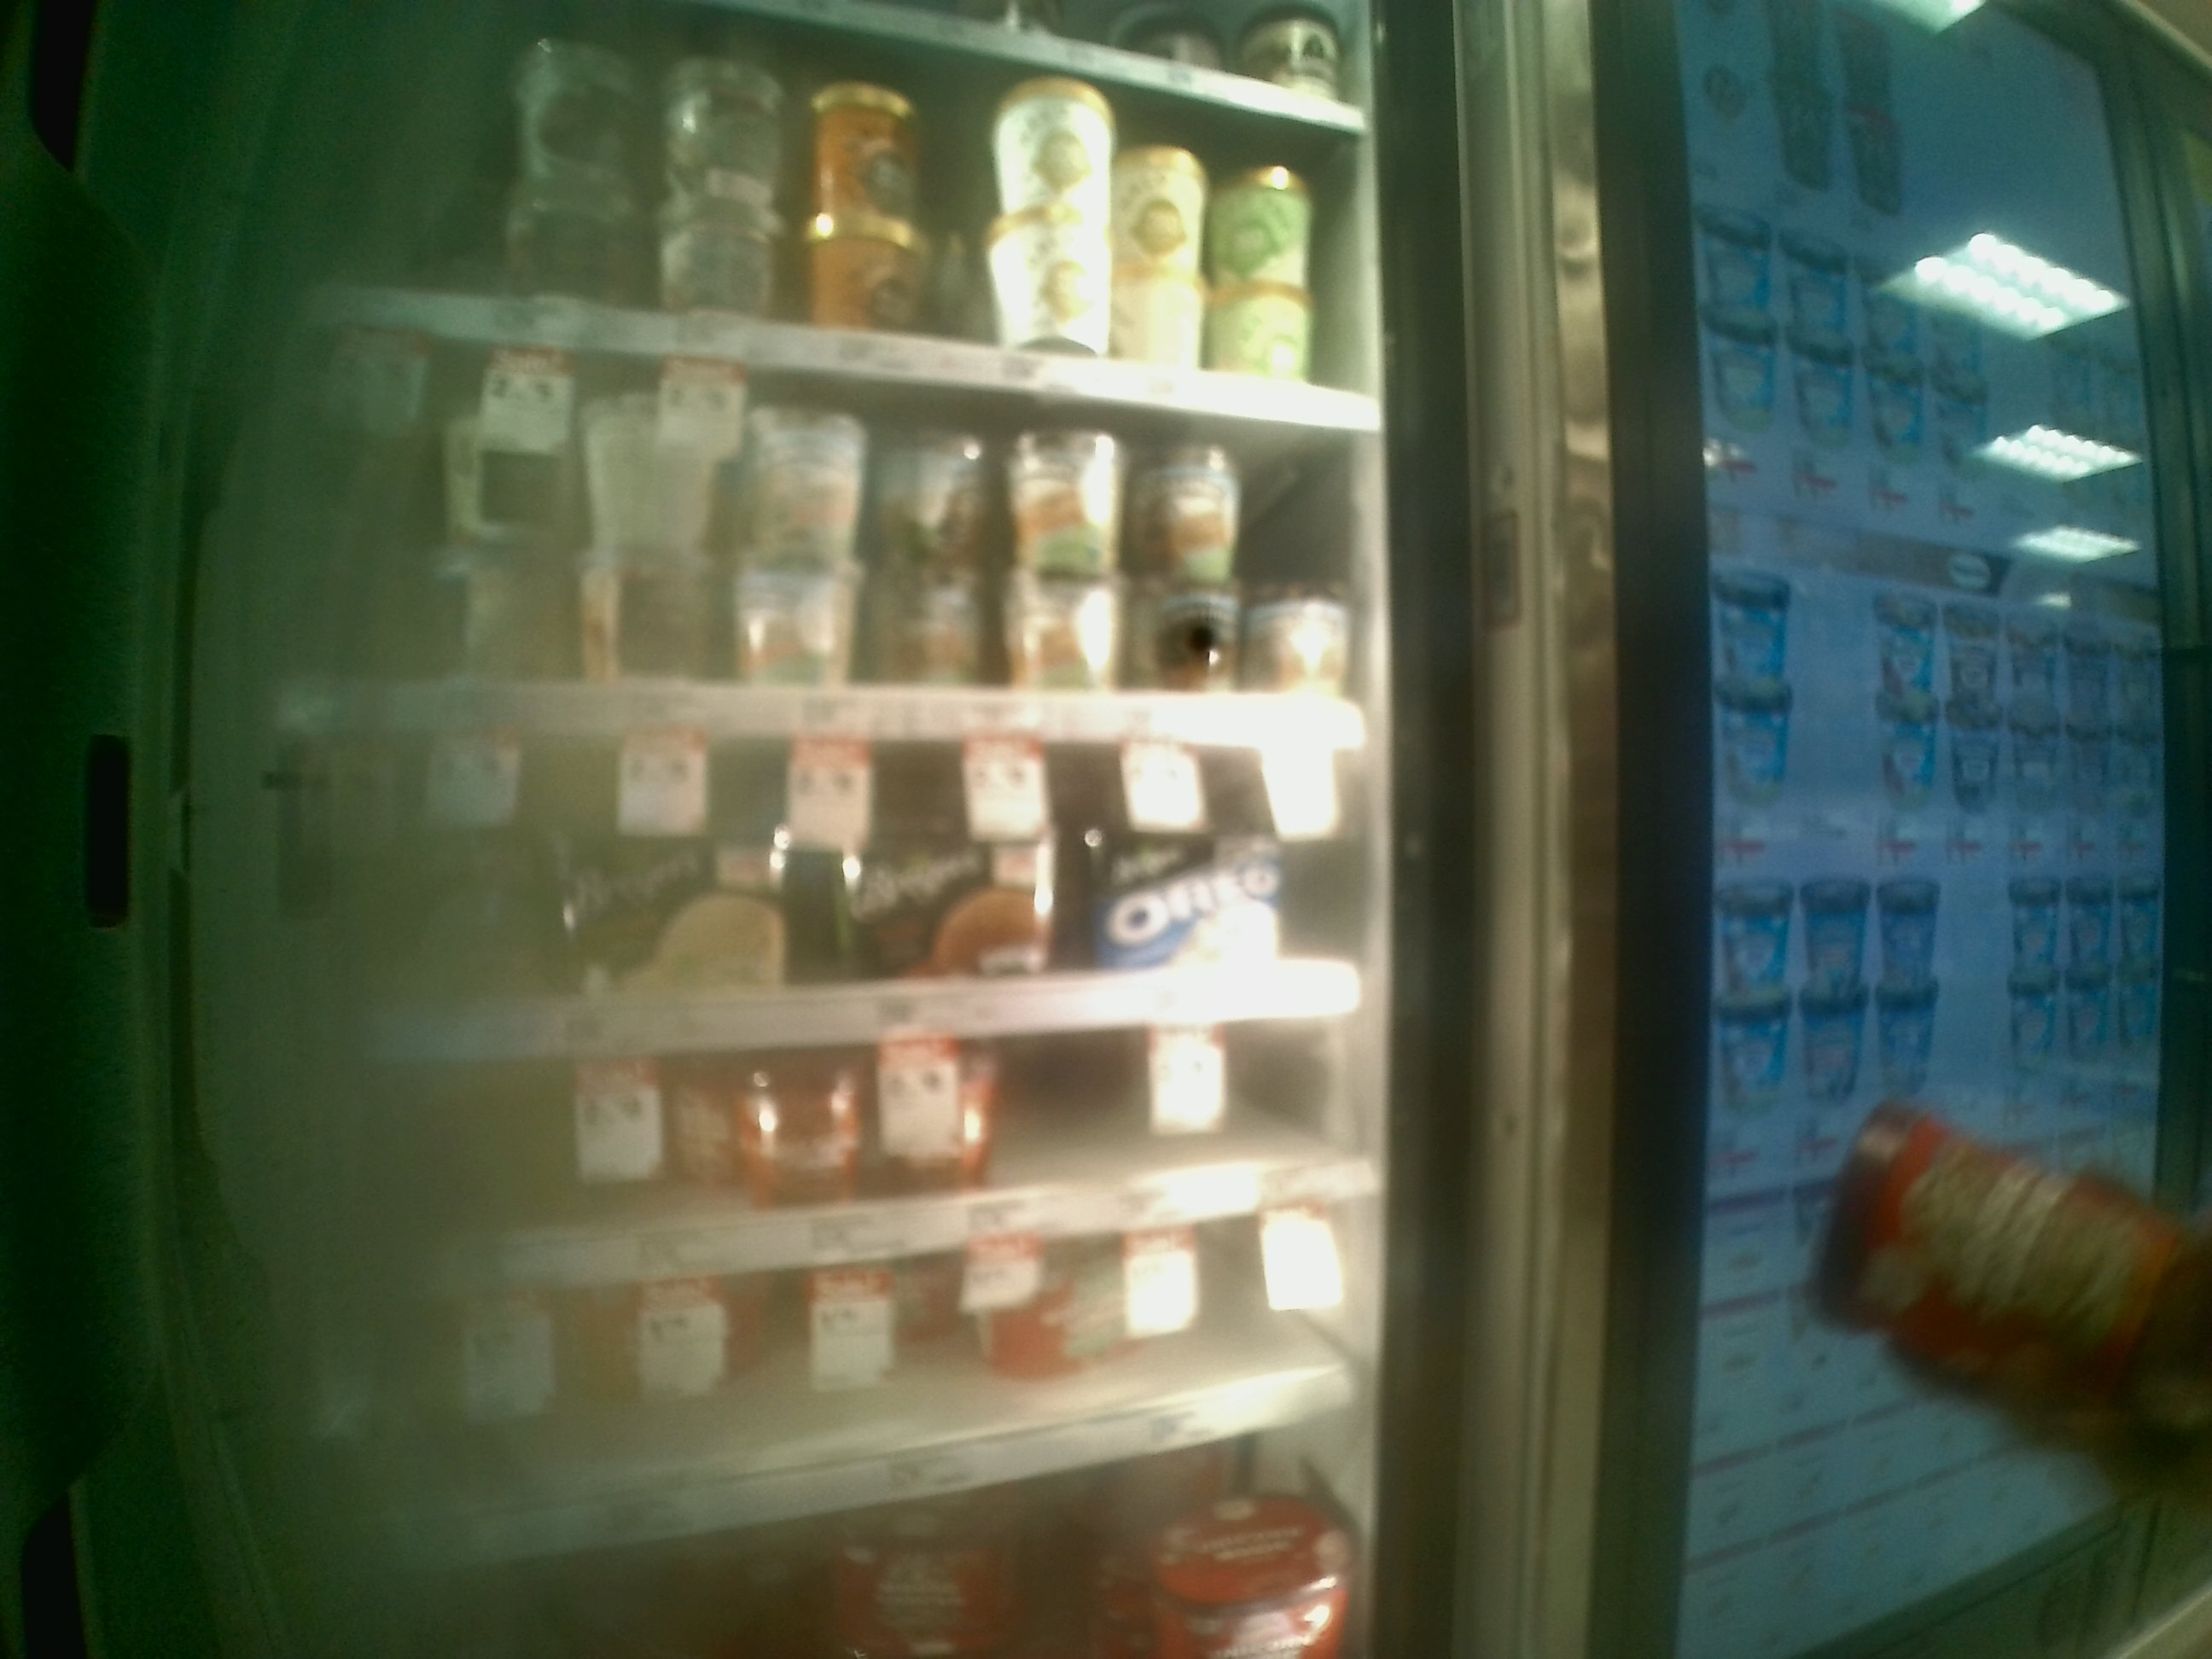shelf: (286, 734, 1385, 1058)
